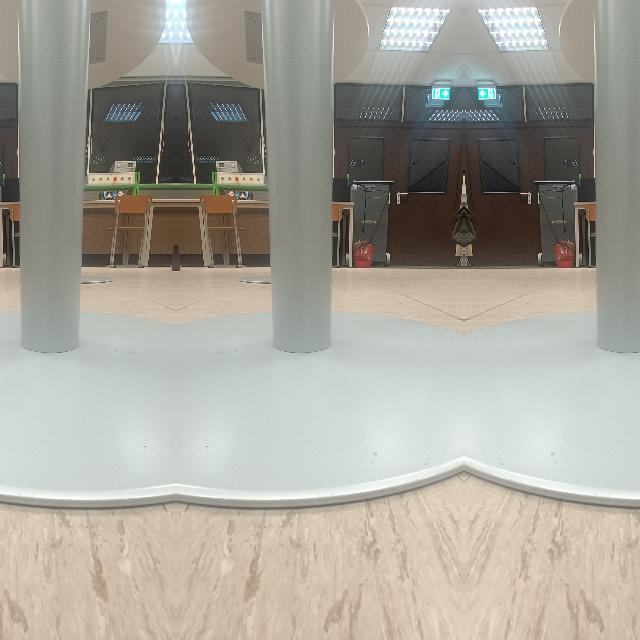obstacle: (174, 76, 463, 514), (463, 76, 640, 513), (0, 76, 175, 513)
